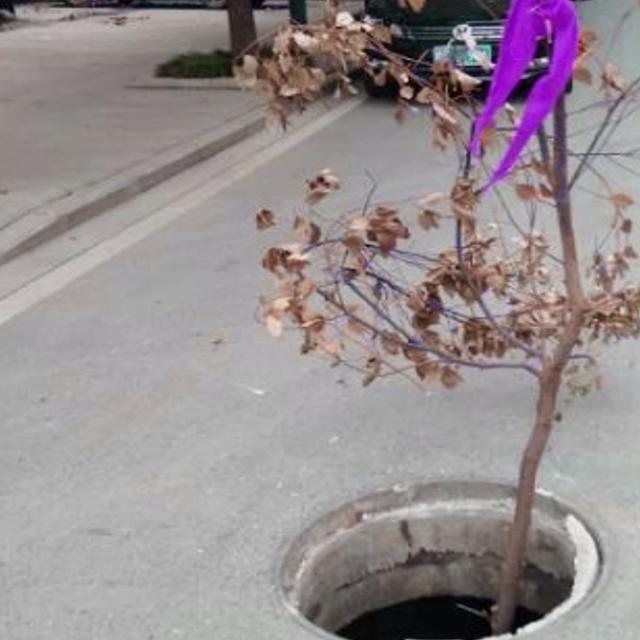lose: (273, 481, 601, 640)
